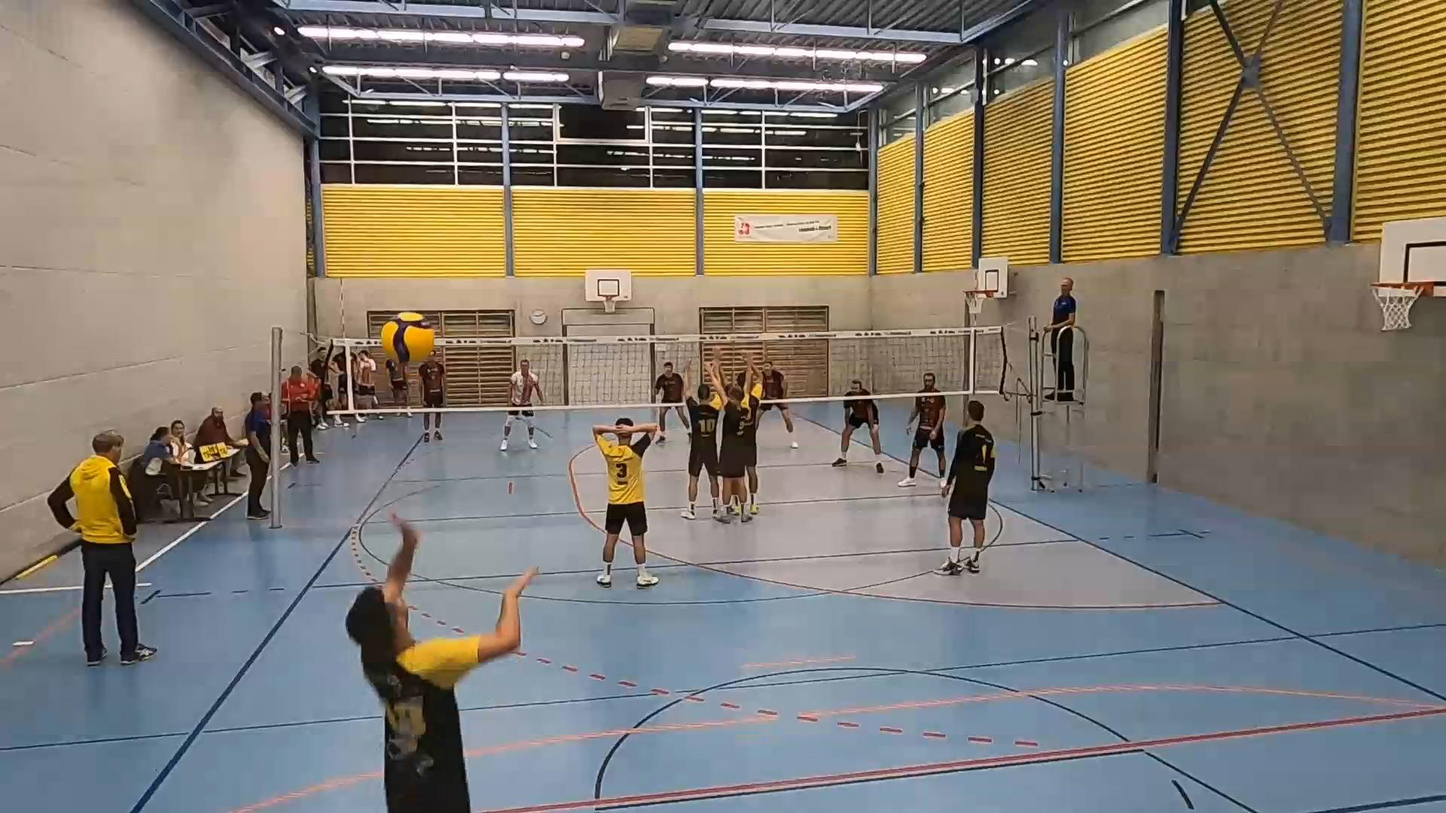Player: (593, 417, 657, 588), (935, 400, 995, 575), (707, 362, 753, 522), (681, 384, 725, 520), (898, 373, 946, 486), (831, 379, 883, 473), (737, 358, 764, 514), (499, 359, 541, 451), (653, 362, 689, 442), (418, 350, 444, 441), (761, 403, 798, 449)
Serve: (343, 514, 537, 813)
ball: (383, 314, 437, 358)
